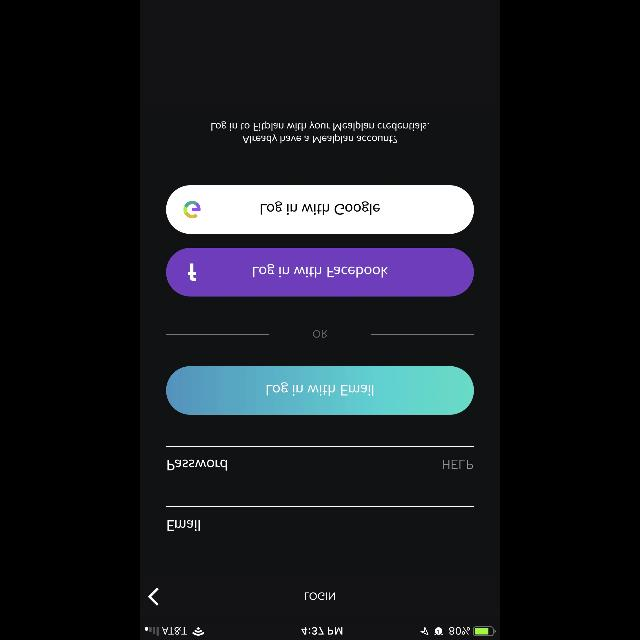icon: (148, 587, 158, 605)
input: (166, 446, 474, 470), (166, 506, 474, 530)
text: (212, 121, 428, 131), (242, 134, 398, 144), (167, 460, 227, 470), (168, 520, 200, 532), (443, 459, 473, 469), (305, 592, 335, 600), (312, 330, 328, 338)
textbutton: (166, 185, 474, 233), (166, 248, 474, 296), (166, 366, 474, 414)
uppertaskbar: (140, 626, 500, 640)
